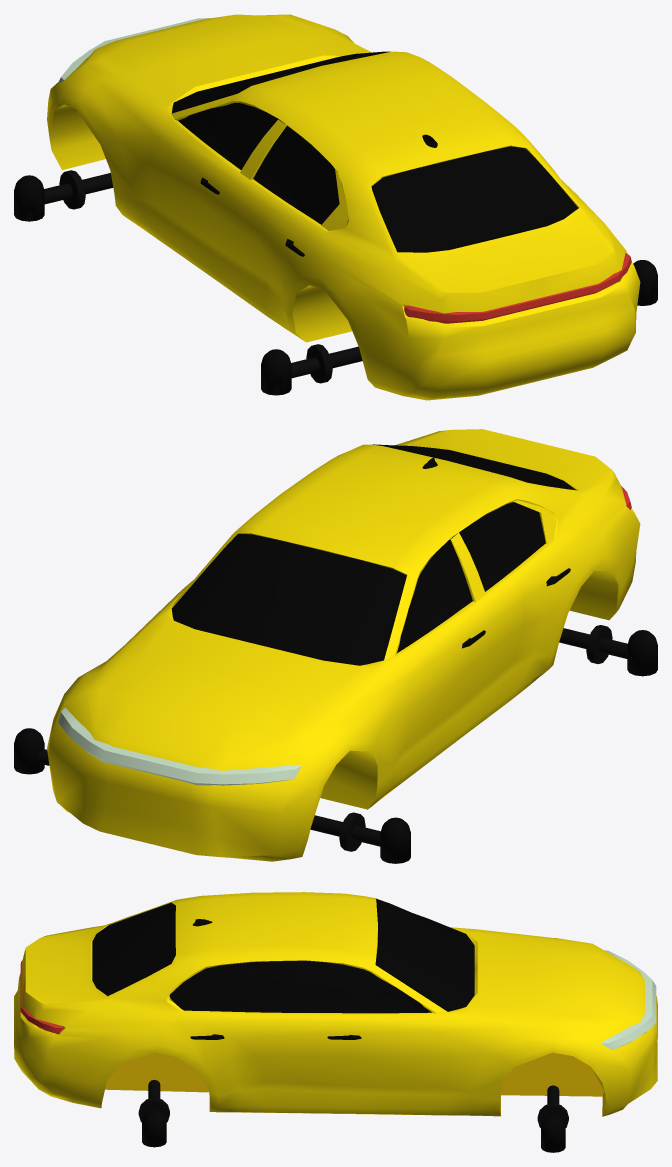
The model's file is Car1.fbx.
The picture shows the model from 3 angles, top to bottom: view 1: azimuth 30°, elevation 25°; view 2: azimuth 150°, elevation 25°; view 3: azimuth 270°, elevation 25°; orthographic projection. The views are drawn at different scales.
Parts seen in each view (by area): view 1: Car1, Dron, ground; view 2: Car1, Dron, ground; view 3: Car1, Dron, ground.
Boxes of the visible parts, x1,y1,x2,y2 form: Car1: [47, 14, 640, 400]; Dron: [14, 173, 657, 395]; ground: [59, 170, 359, 383]; Car1: [47, 429, 640, 861]; Dron: [14, 628, 657, 863]; ground: [310, 625, 612, 851]; Car1: [14, 892, 657, 1116]; Dron: [142, 1079, 565, 1152]; ground: [138, 1080, 568, 1127].
Size of the model in its own units: 2965 by 1415 by 5210.
1 material, 1 textured.
